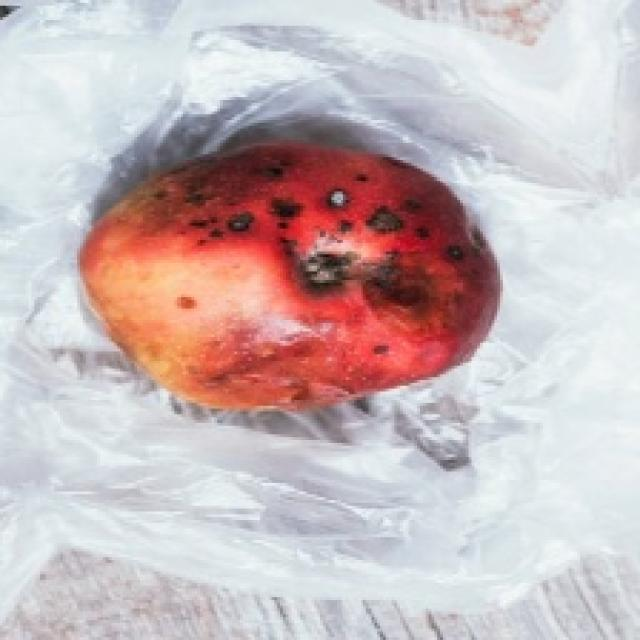rotten_apple: (90, 147, 496, 406)
